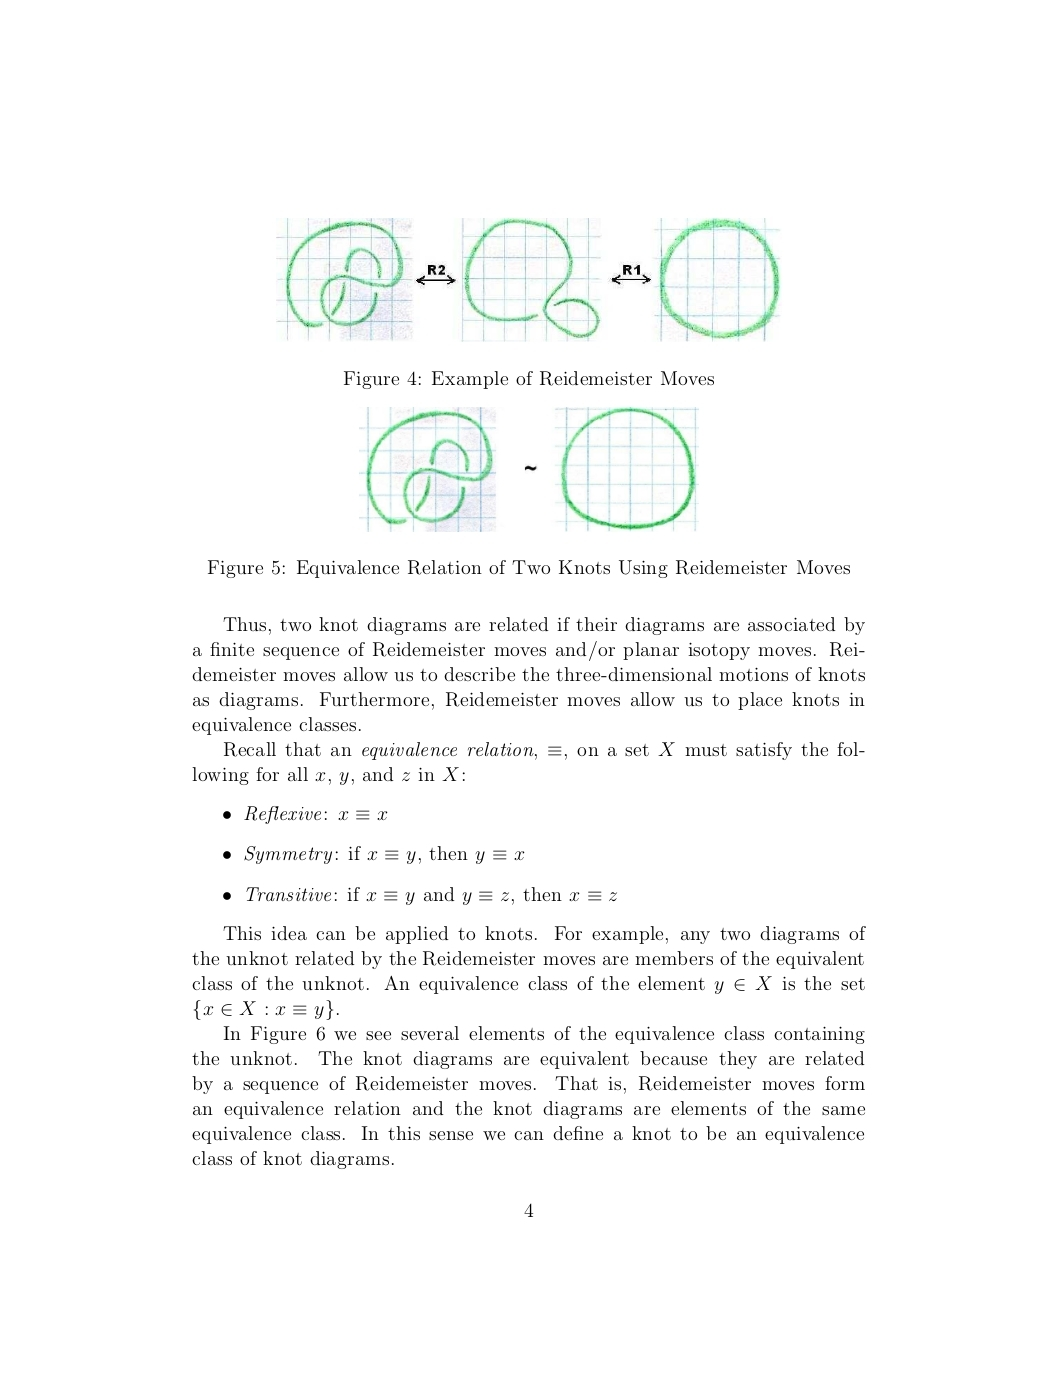figure: (276, 217, 780, 342), (359, 406, 698, 532)
